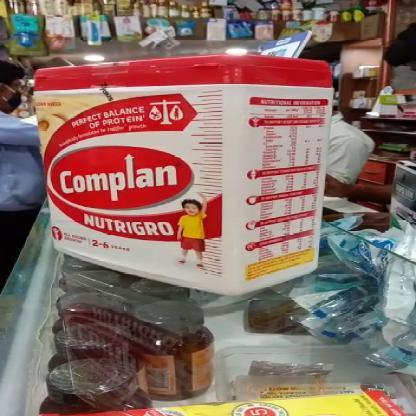Complan Nutrigro Badam Kheer: (39, 65, 326, 258)
